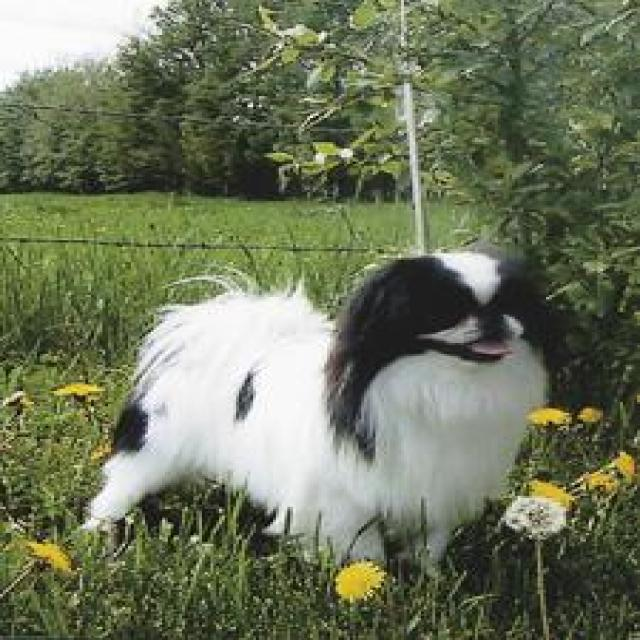husky: (68, 249, 575, 585)
